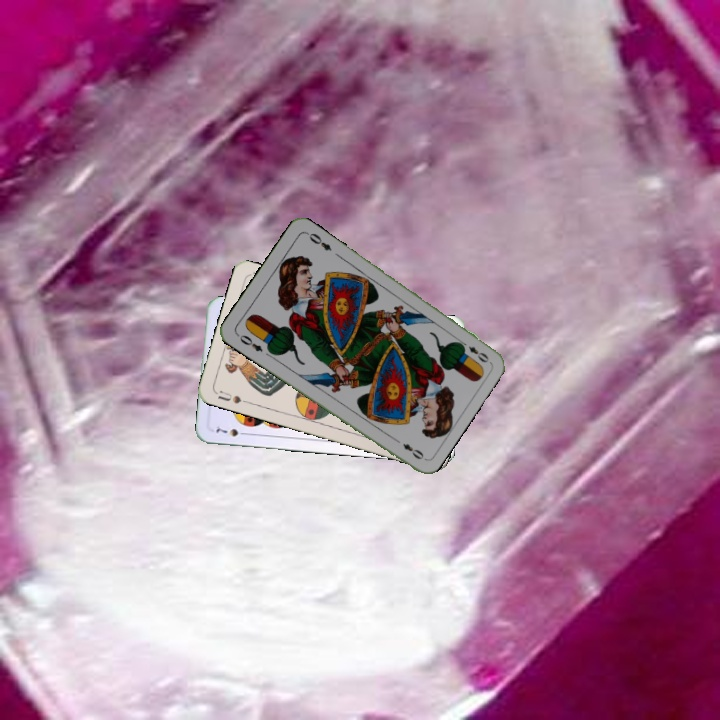EO: (456, 337, 492, 365), (233, 330, 265, 354)
S7: (212, 422, 250, 439)
SU: (214, 387, 252, 406)
